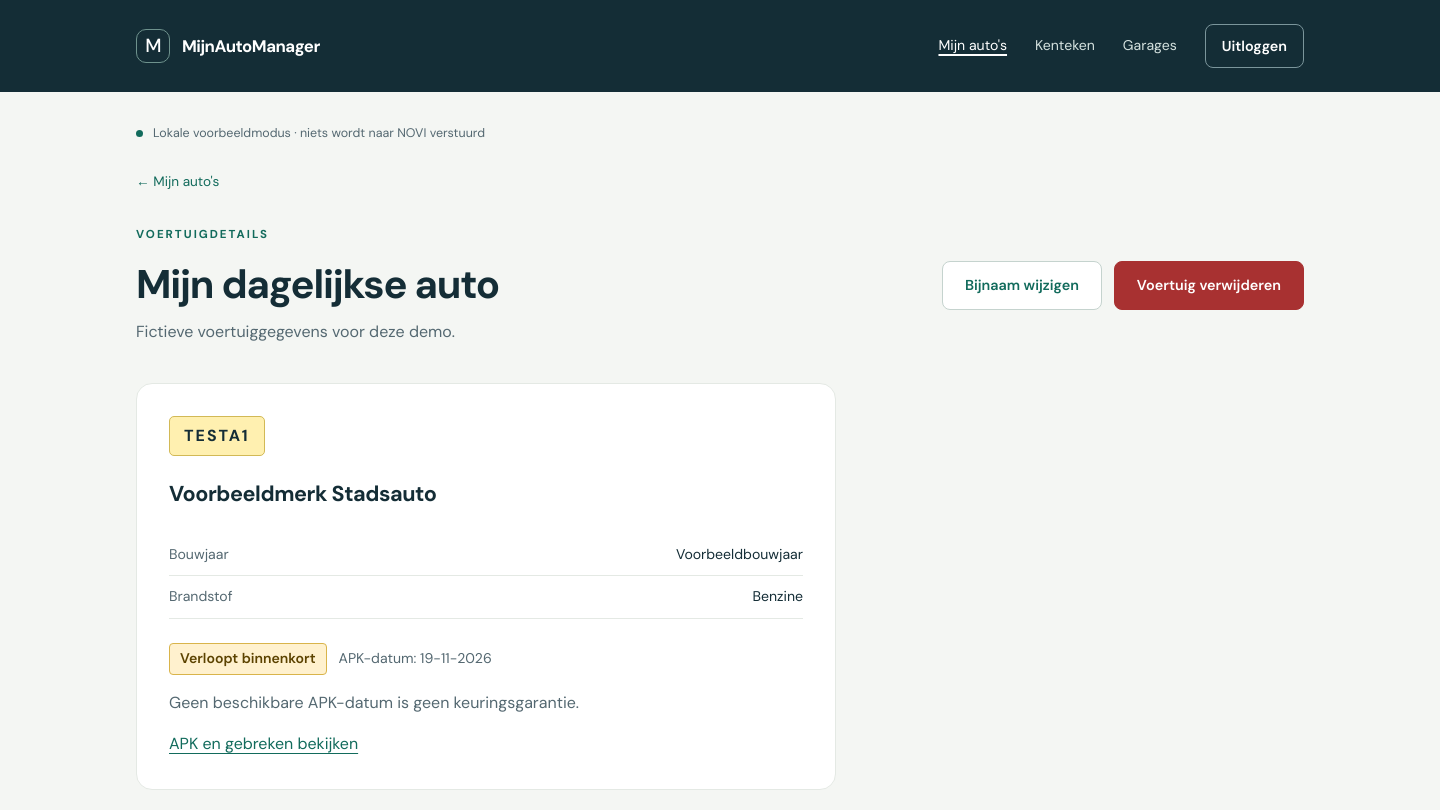
Test: onderhoud: schermen (demo) › verwijdert een voertuig met het aantal onderhoudsrecords in de bevestiging
This screenshot has width=1440, height=810.
Click the button "Voertuig verwijderen" at (1209, 286), box [1114,261,1304,310]
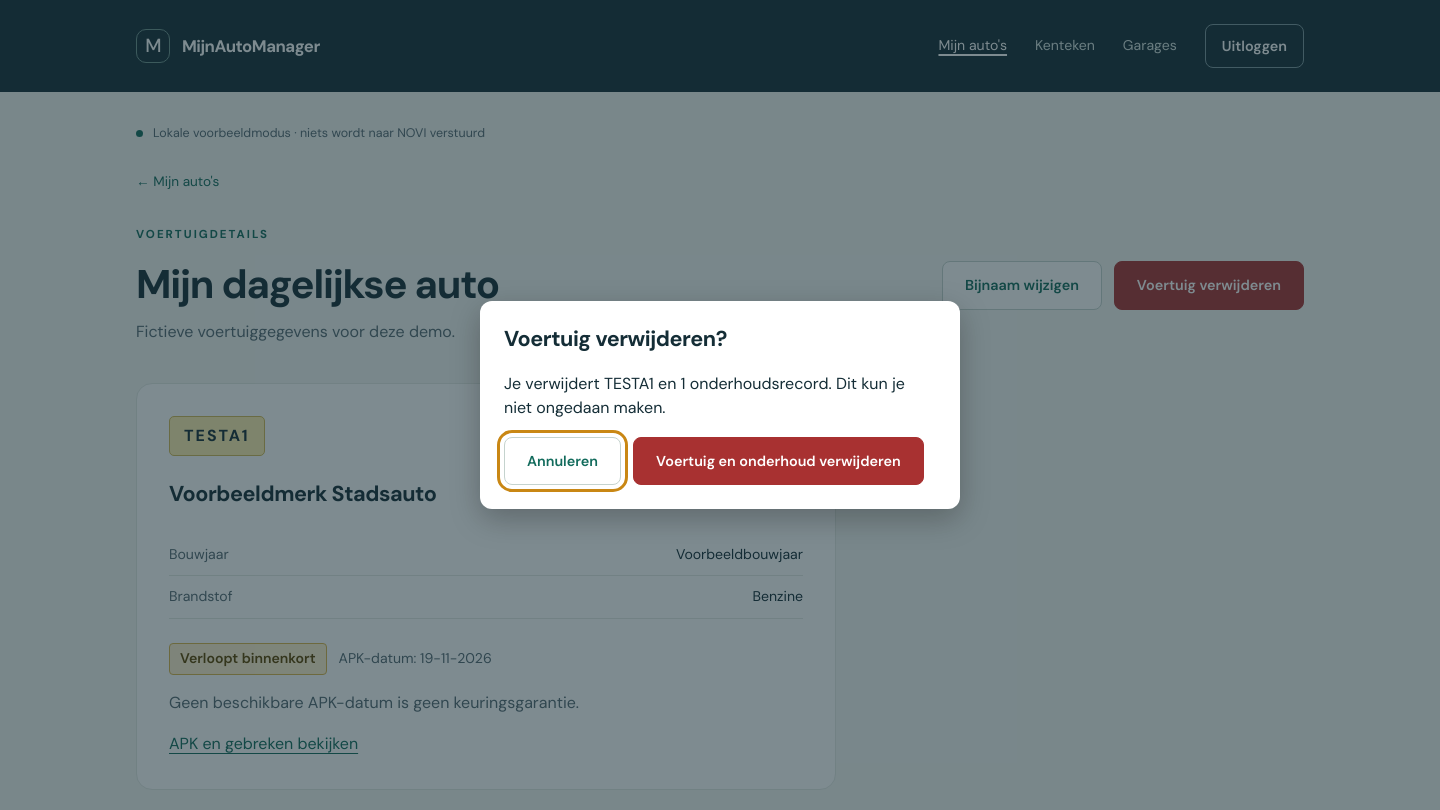
Expected: the dialog shows "TESTA1 en 1 onderhoudsrecord", [480,300,960,510]
Click the button "Voertuig en onderhoud verwijderen" at (778, 461), box [633,437,924,486]
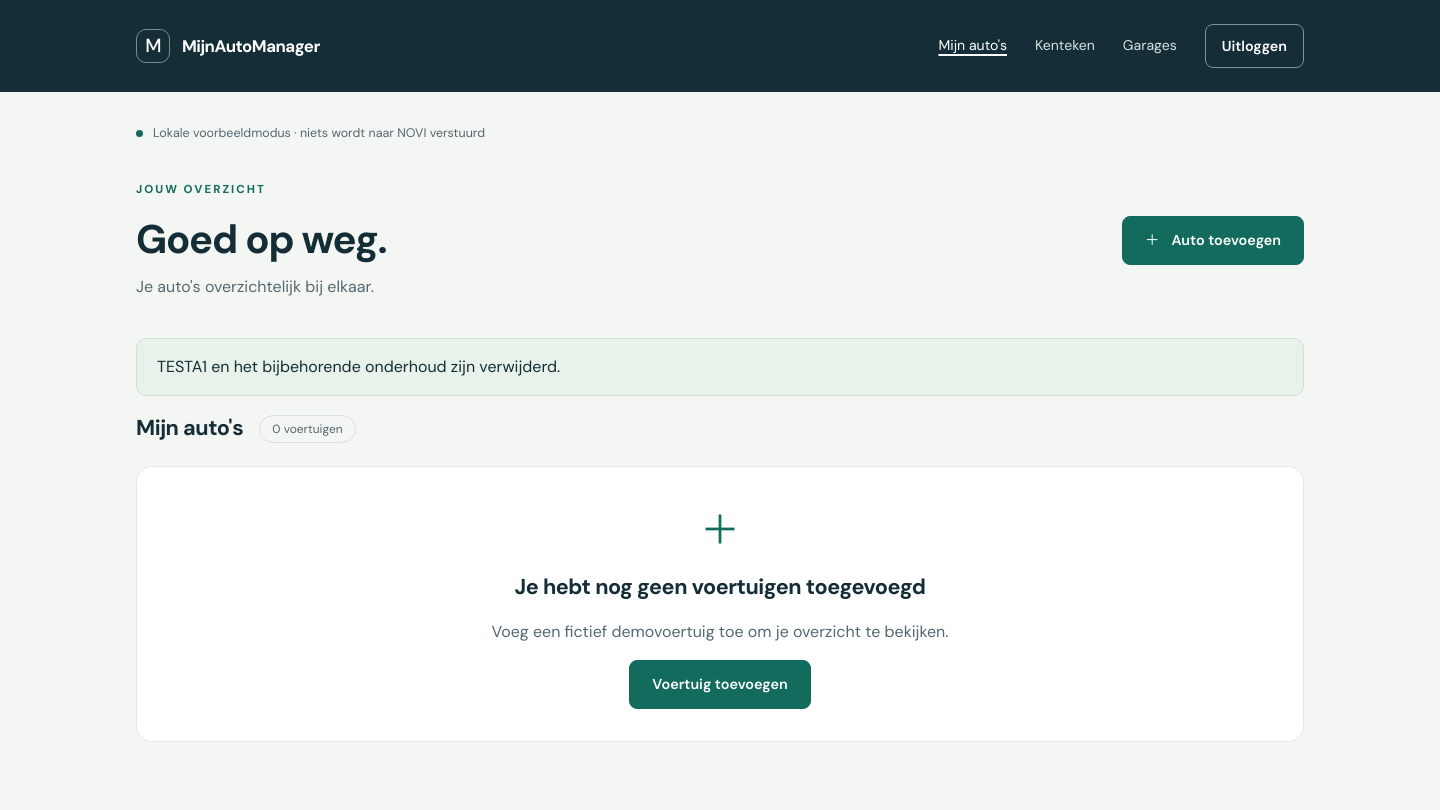
Expected: the text "TESTA1 en het bijbehorende onderhoud zijn verwijderd." is shown, [157,355,560,379]
Expected: the heading "Je hebt nog geen voertuigen toegevoegd" is shown, [514,572,926,600]
